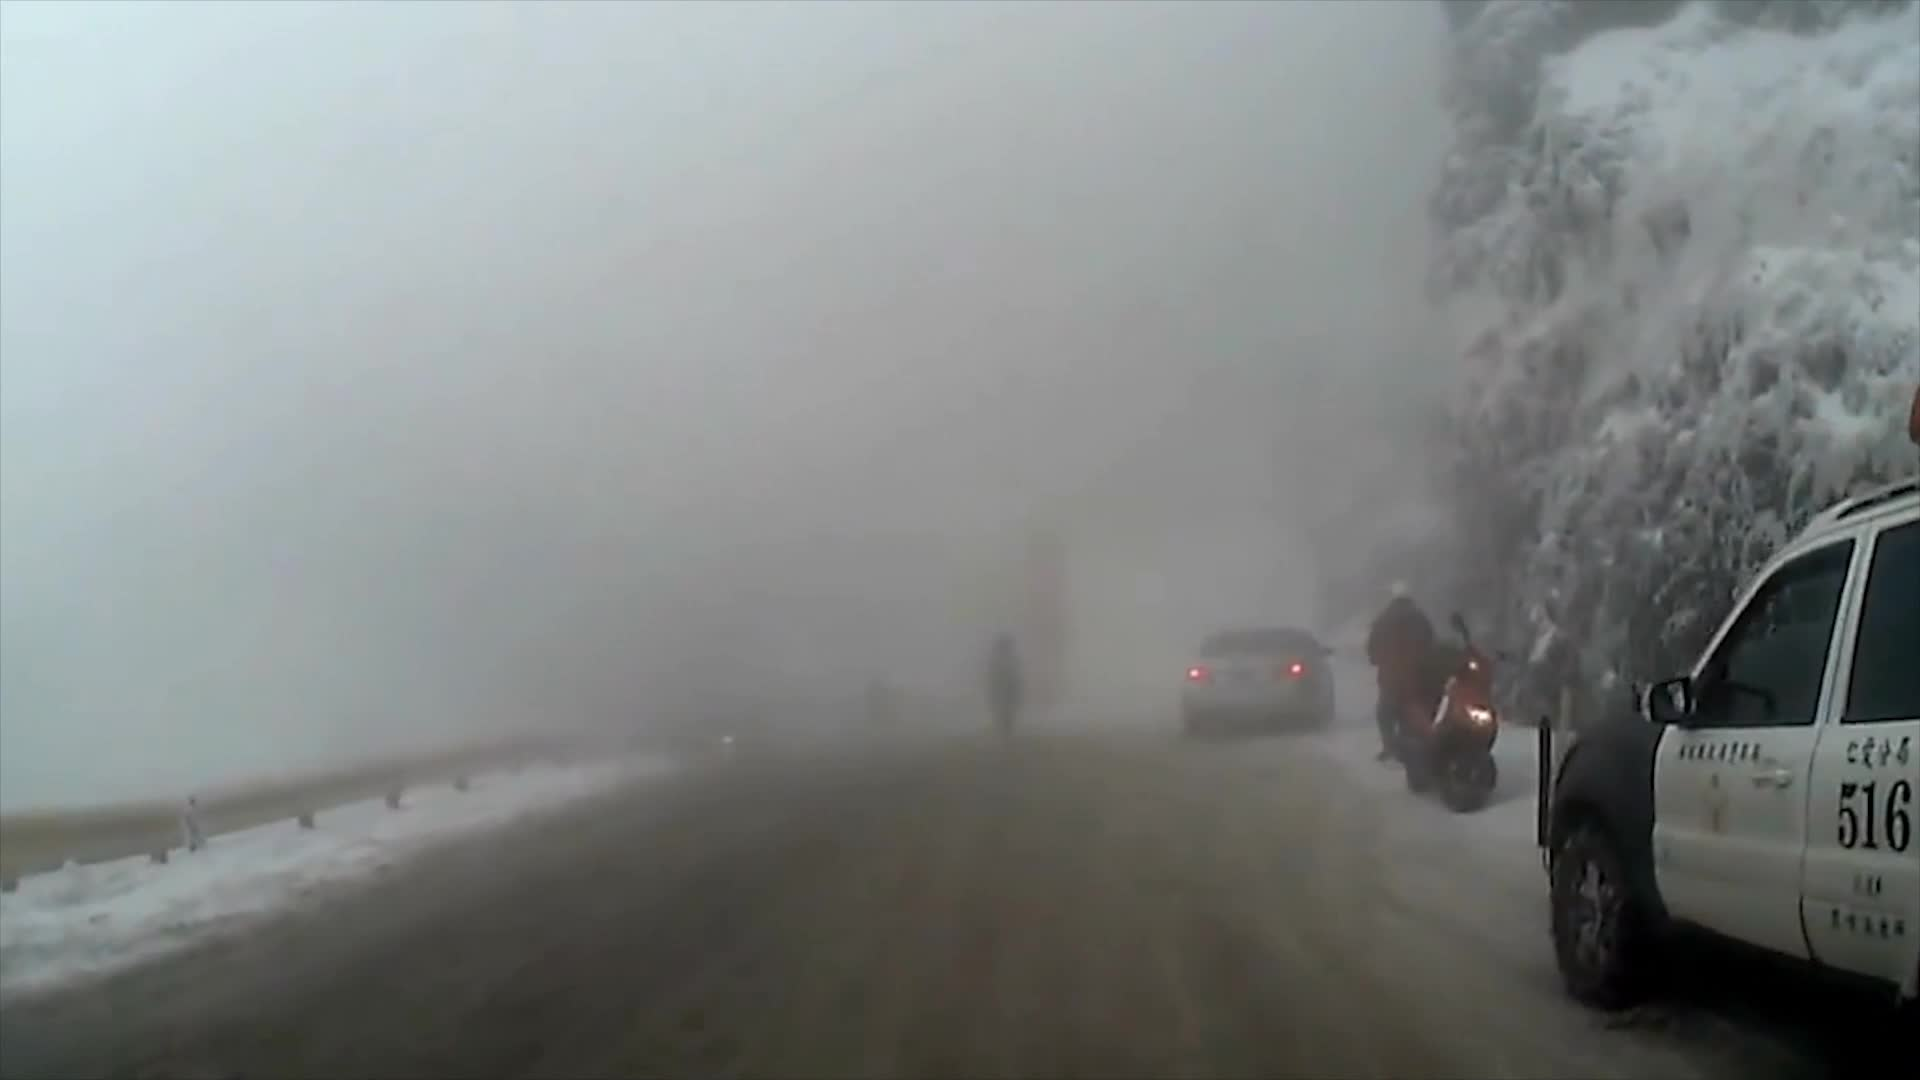pedestrian: (1354, 580, 1441, 764), (987, 631, 1022, 753)
vehicle: (1534, 386, 1917, 1080), (1175, 621, 1334, 741)
